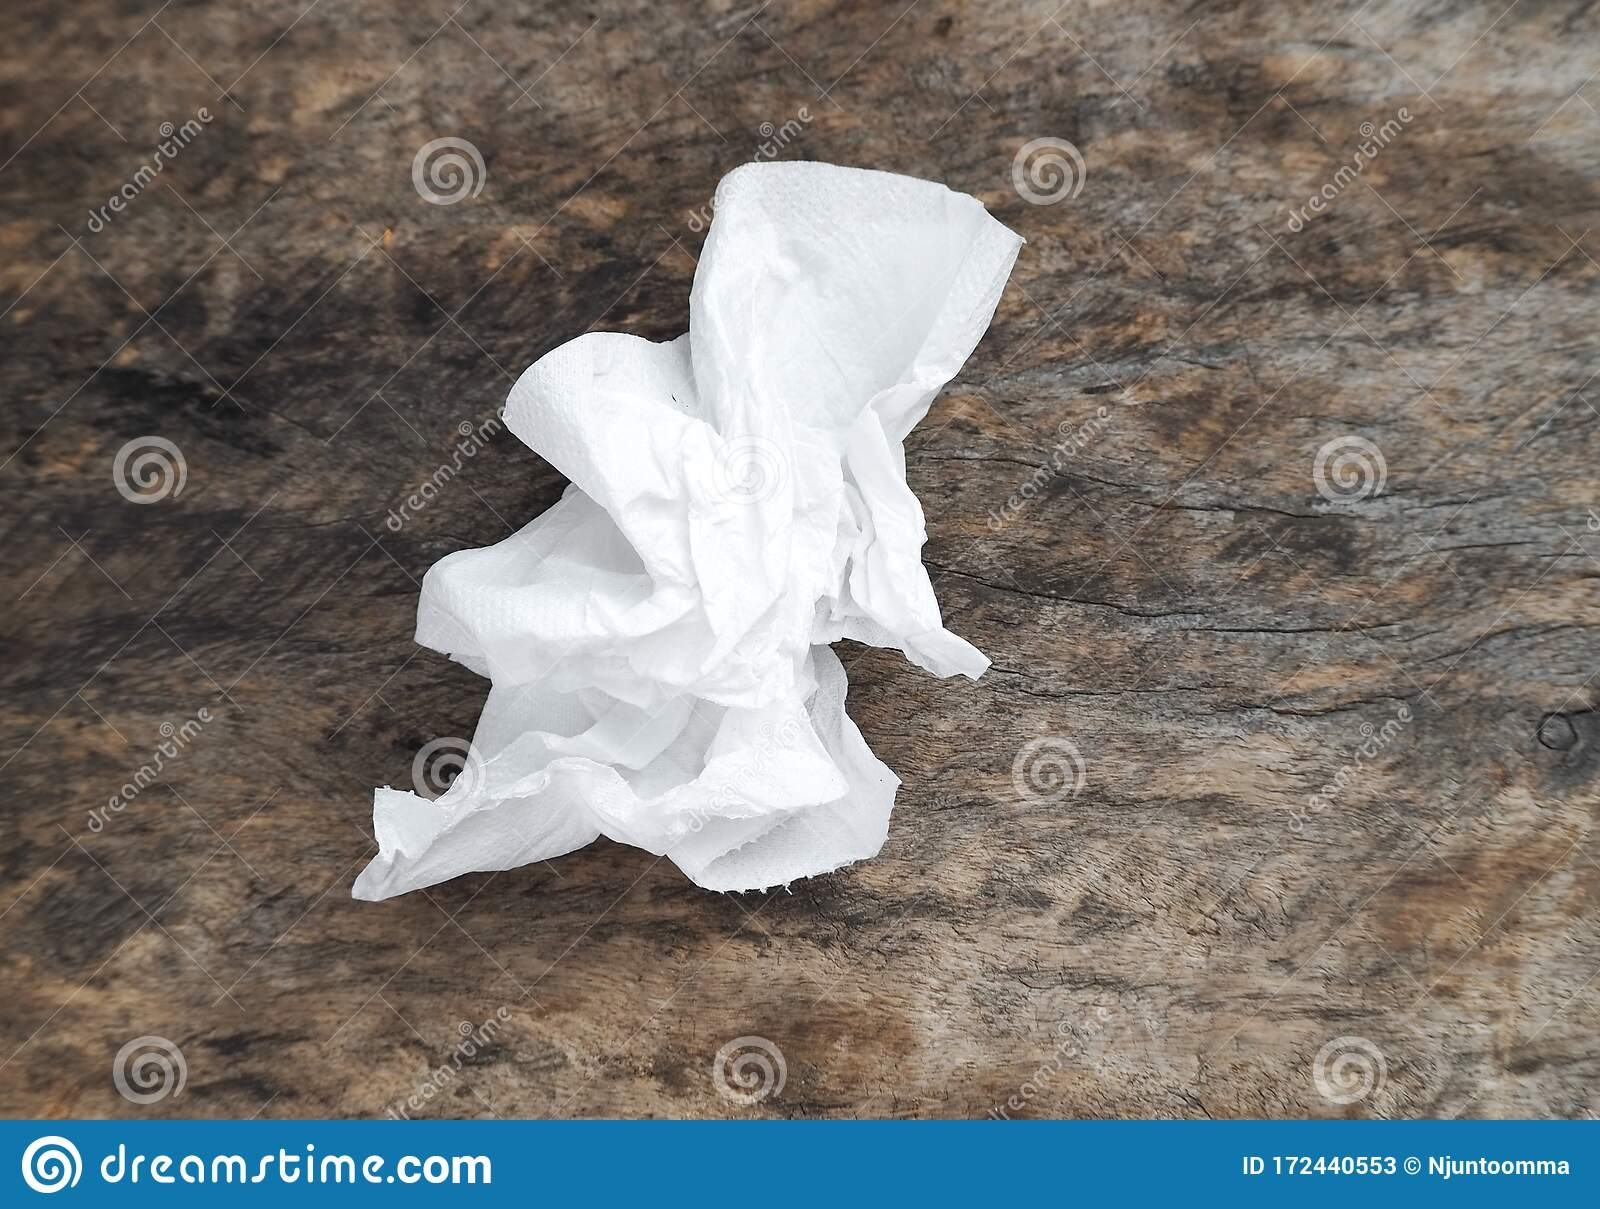paper: (312, 133, 1022, 941)
